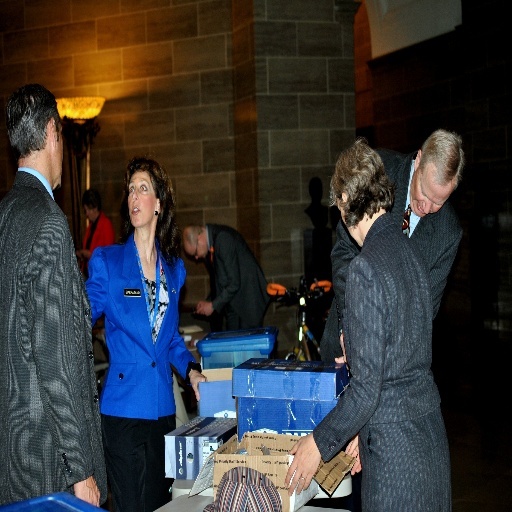hand: (291, 435, 329, 500), (73, 475, 101, 509), (344, 433, 363, 478), (188, 368, 208, 404), (194, 300, 211, 318), (339, 335, 347, 363), (333, 355, 345, 363)
